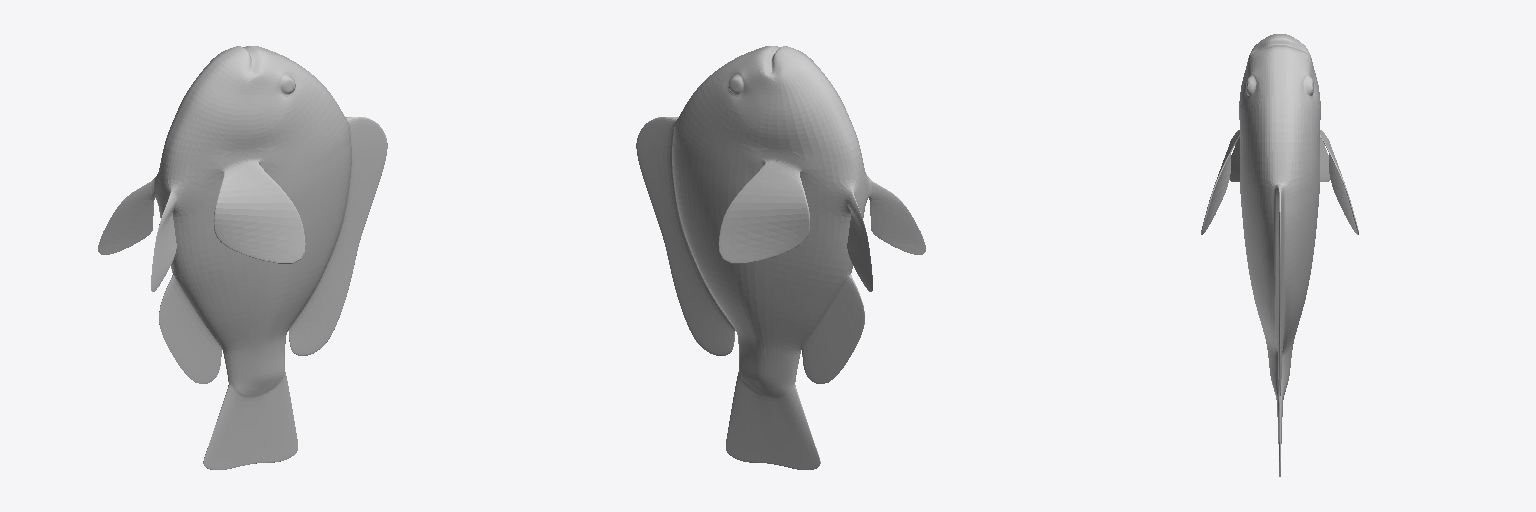
3 renders of one model, left to right at view 1: azimuth 30°, elevation 25°; view 2: azimuth 150°, elevation 25°; view 3: azimuth 270°, elevation 25°, orthographic.
Parts seen in each view (by area): view 1: 12265_Fish_v1_L2.001; view 2: 12265_Fish_v1_L2.001; view 3: 12265_Fish_v1_L2.001.
Boxes of the visible parts, <box> form: 12265_Fish_v1_L2.001: <box>98,46,387,469</box>; 12265_Fish_v1_L2.001: <box>636,46,925,469</box>; 12265_Fish_v1_L2.001: <box>1201,34,1358,476</box>.
Size of the model in its own units: 2.24 by 3.44 by 1.16.